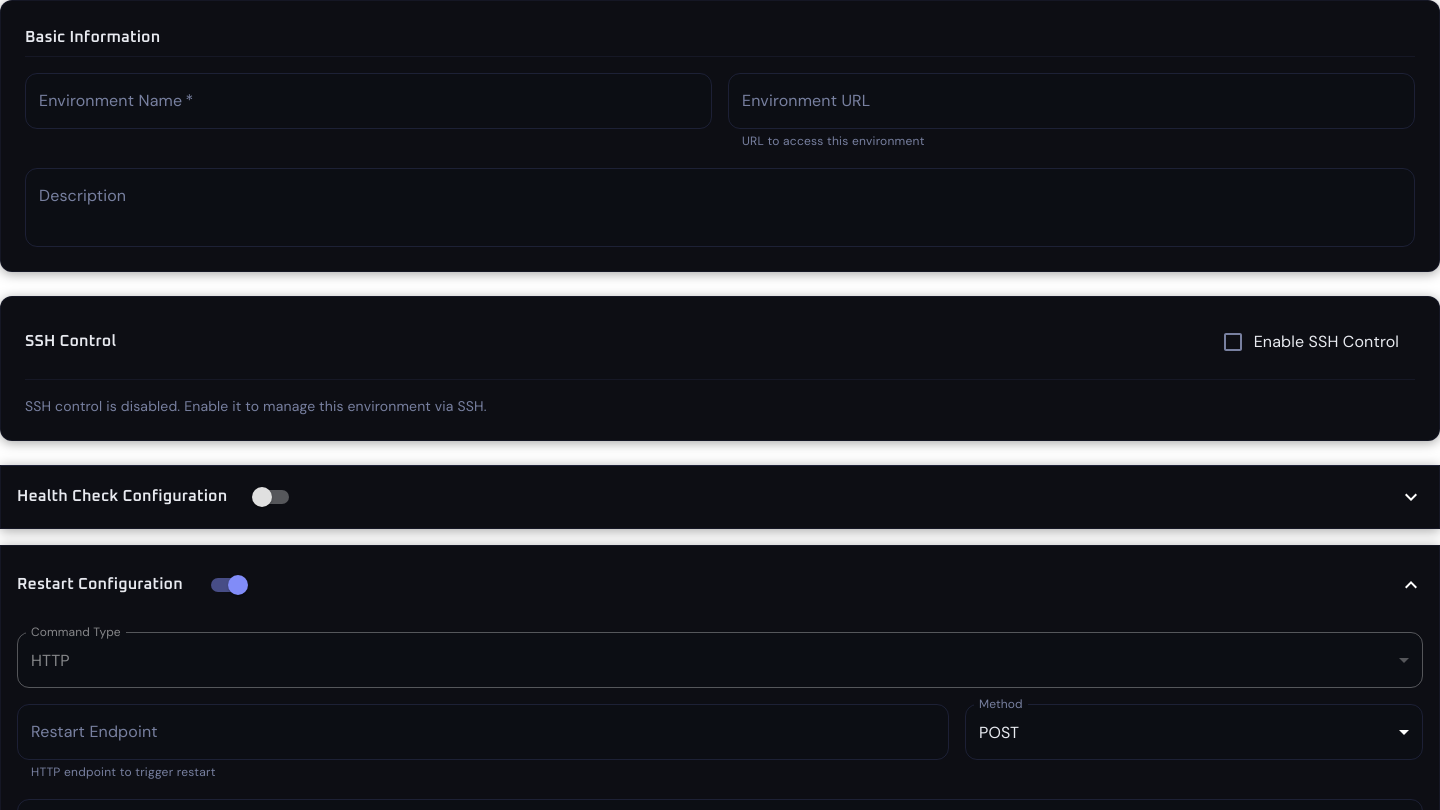
EnvironmentForm › should toggle health check accordion via switch
Note: Health check is disabled by default, switch index 0
Click the 2nd checkbox.
click(262, 497)  # box [252, 487, 272, 507]
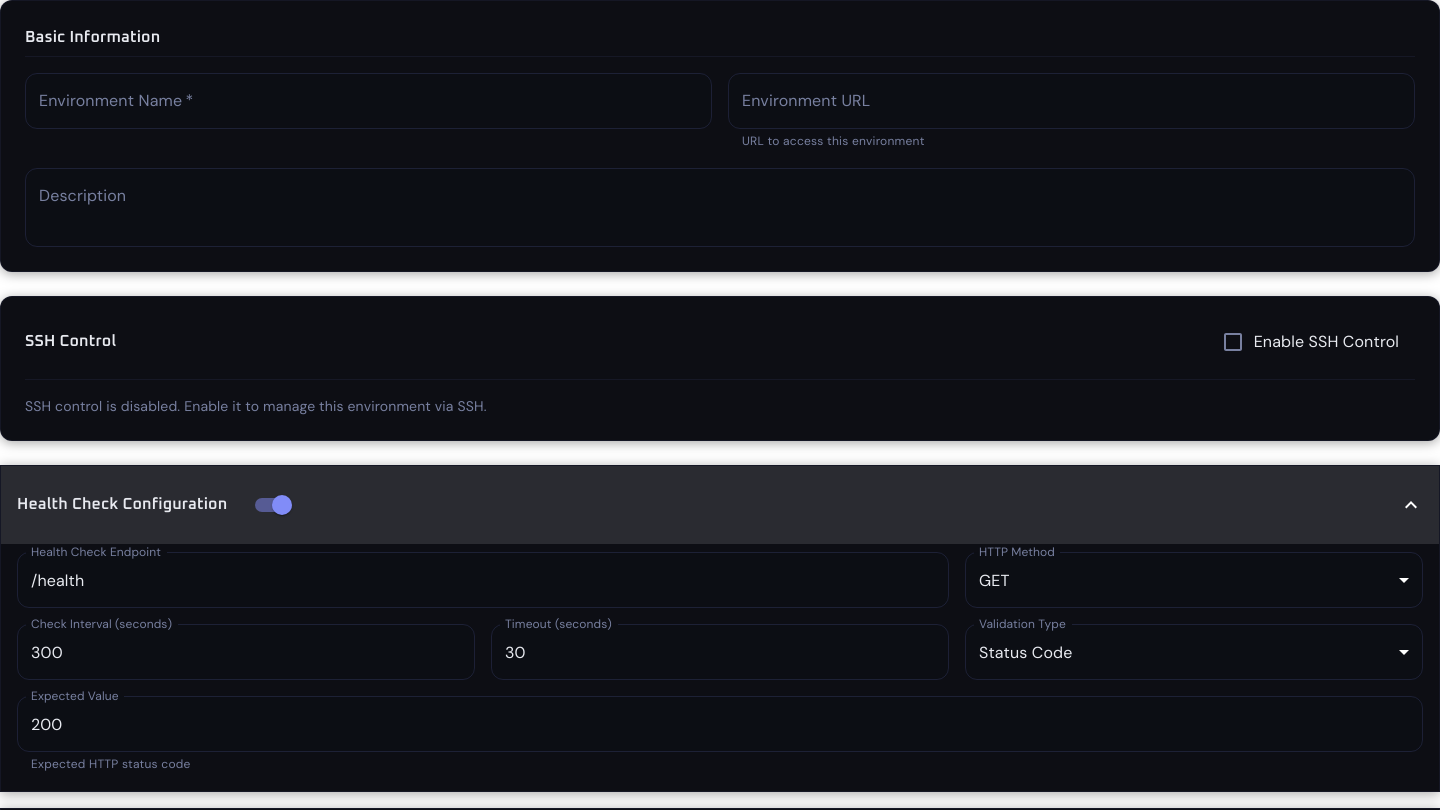
Now the field labelled "Health Check Endpoint" is shown, box [17, 552, 949, 608]
